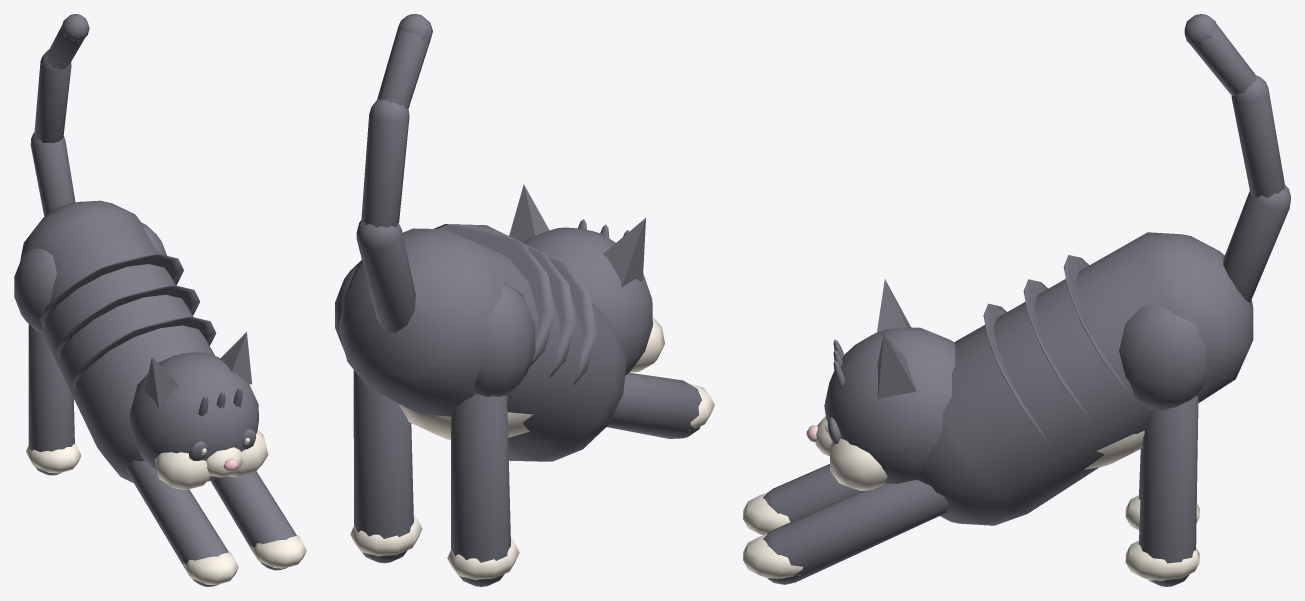
The model's file is companion-animals-and-pet-home-cat-stretching-tuxedo-c5411015__20549.glb.
3 views of the same model, side by side, from view 1: azimuth 30°, elevation 25°; view 2: azimuth 150°, elevation 25°; view 3: azimuth 270°, elevation 25° (orthographic). The views are drawn at different scales.
Visible parts, largest first — view 1: cat-stretching-tuxedo; view 2: cat-stretching-tuxedo; view 3: cat-stretching-tuxedo.
Boxes of the visible parts, left/top/right/bottom form: cat-stretching-tuxedo: left=14, top=14, right=306, bottom=586; cat-stretching-tuxedo: left=335, top=14, right=714, bottom=586; cat-stretching-tuxedo: left=743, top=14, right=1290, bottom=586.
Size of the model in its own units: 0.2191 by 0.6476 by 0.5887.
